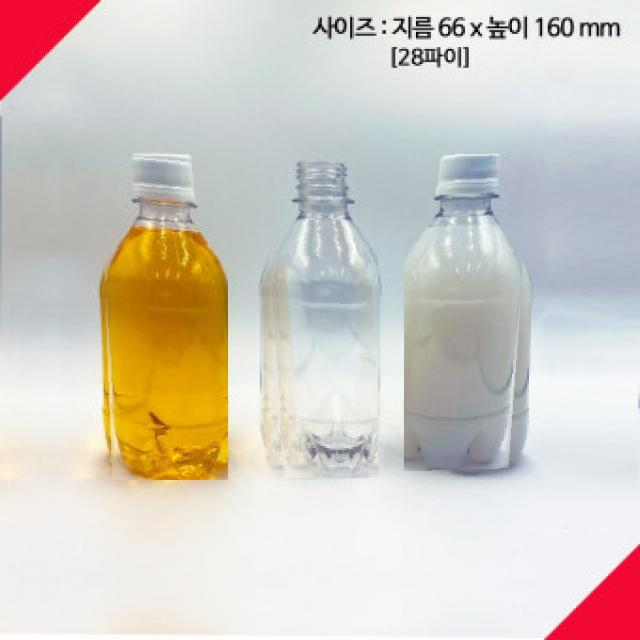plastic bottle: (100, 152, 228, 480), (404, 154, 532, 472), (262, 158, 378, 478)
